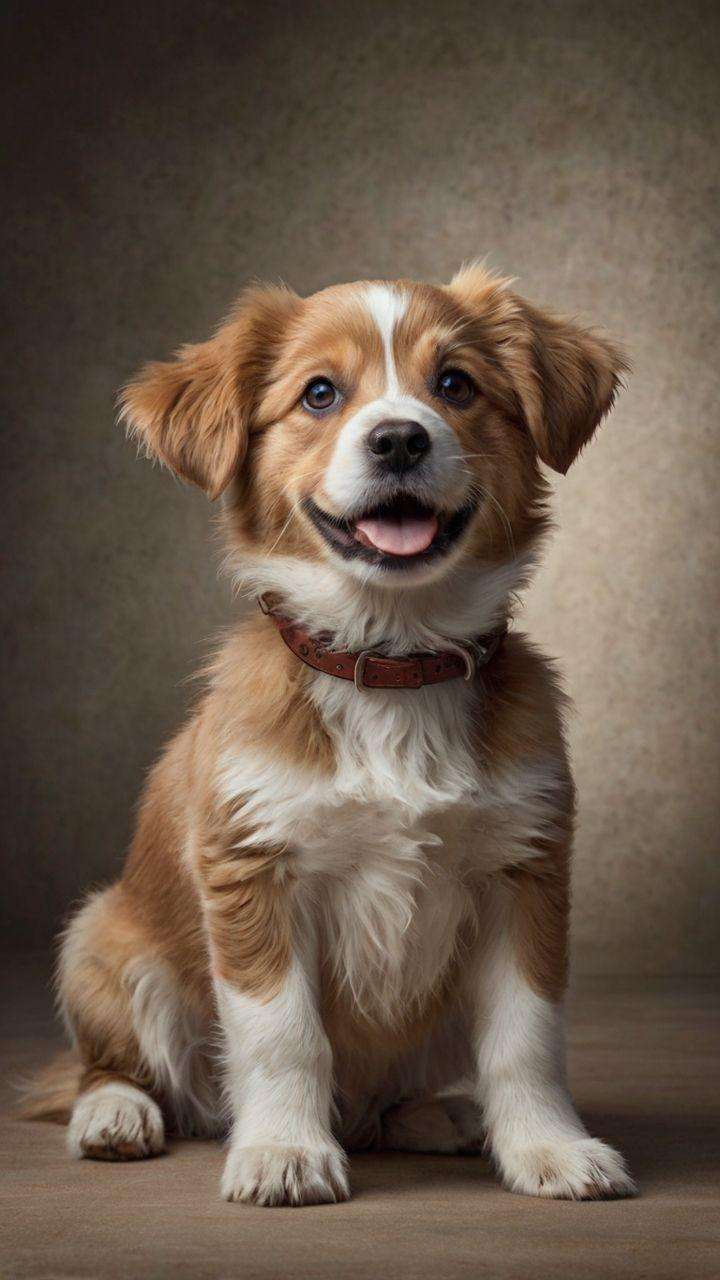puppy-dog: (9, 260, 642, 1209)
